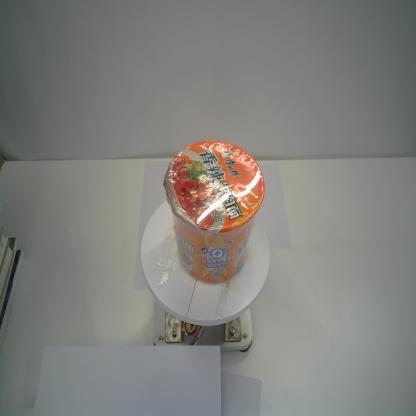Instant Noodles: (162, 138, 267, 285)
